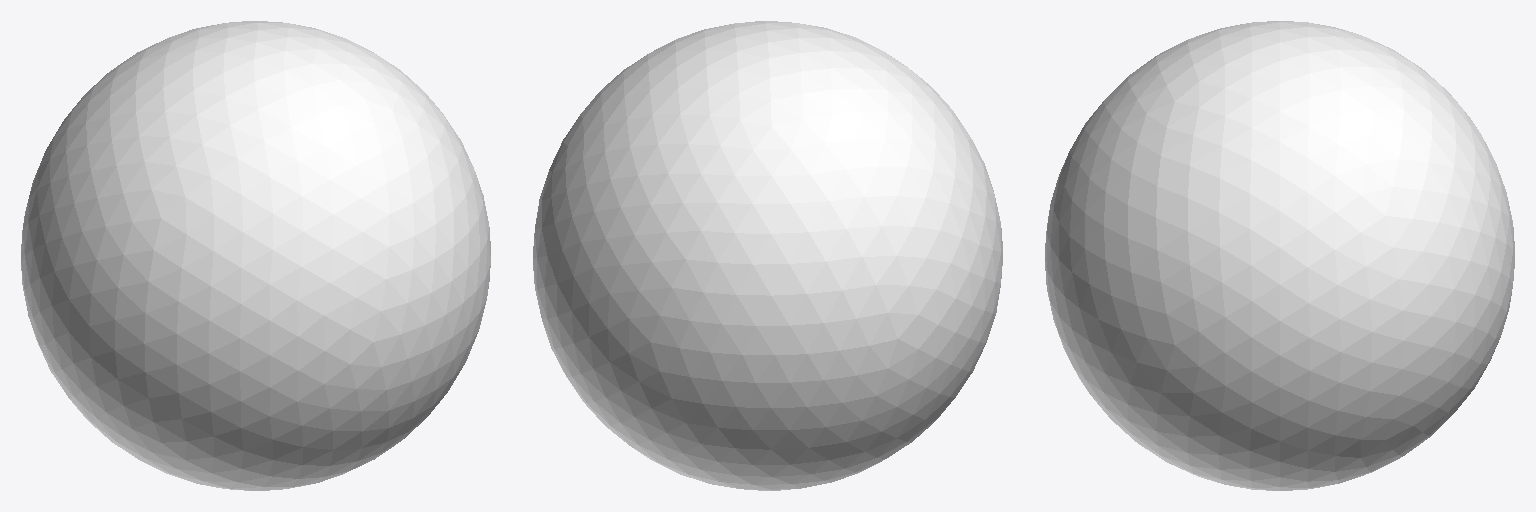
The picture shows the model from 3 angles: view 1: azimuth 30°, elevation 25°; view 2: azimuth 150°, elevation 25°; view 3: azimuth 270°, elevation 25°; orthographic projection.
Visible parts, largest first — view 1: GeoSphere001; view 2: GeoSphere001; view 3: GeoSphere001.
Boxes of the visible parts, x1,y1,x2,y2 form: GeoSphere001: [21, 21, 490, 490]; GeoSphere001: [533, 21, 1002, 490]; GeoSphere001: [1045, 21, 1514, 490].
Size of the model in its own units: 20 by 20 by 20.